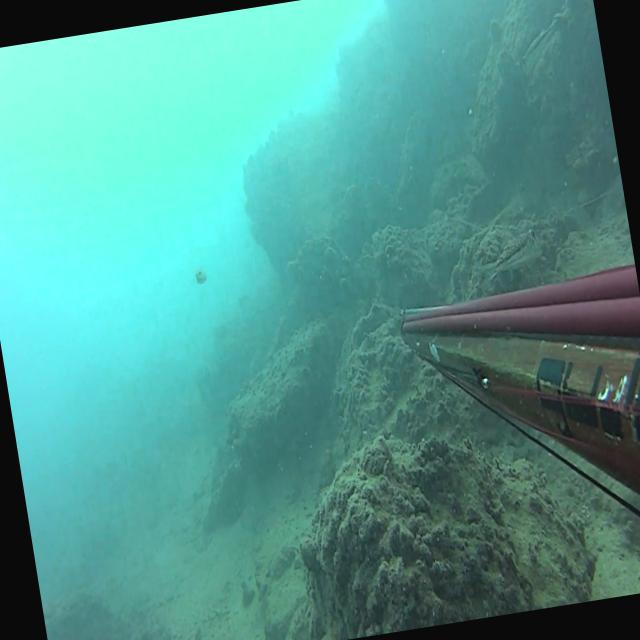Balon Baligi: (472, 226, 546, 282), (514, 16, 564, 75), (194, 268, 208, 284)
